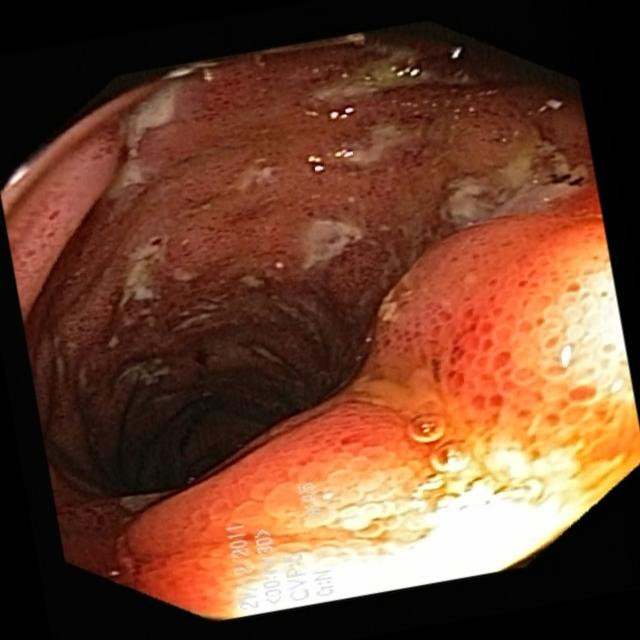ulcerative-colities: (0, 12, 640, 618)
